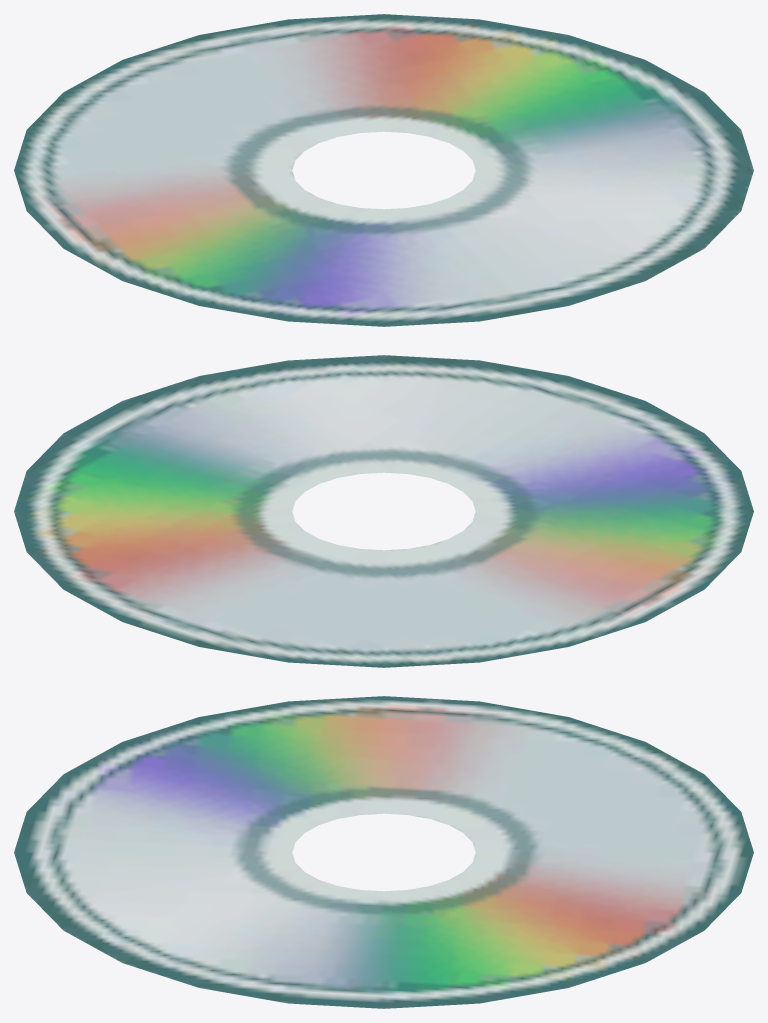
The model's file is Disc_Relic.fbx.
The picture shows the model from 3 angles, top to bottom: view 1: azimuth 30°, elevation 25°; view 2: azimuth 150°, elevation 25°; view 3: azimuth 270°, elevation 25°; orthographic projection.
Parts seen in each view (by area): view 1: Relic_CD; view 2: Relic_CD; view 3: Relic_CD.
Boxes of the visible parts, bbox=[...] form: Relic_CD: bbox=[14, 14, 753, 326]; Relic_CD: bbox=[14, 355, 753, 667]; Relic_CD: bbox=[14, 696, 753, 1008].
Bounding box in the file's own units: 0.9875 × 0 × 0.9875.
